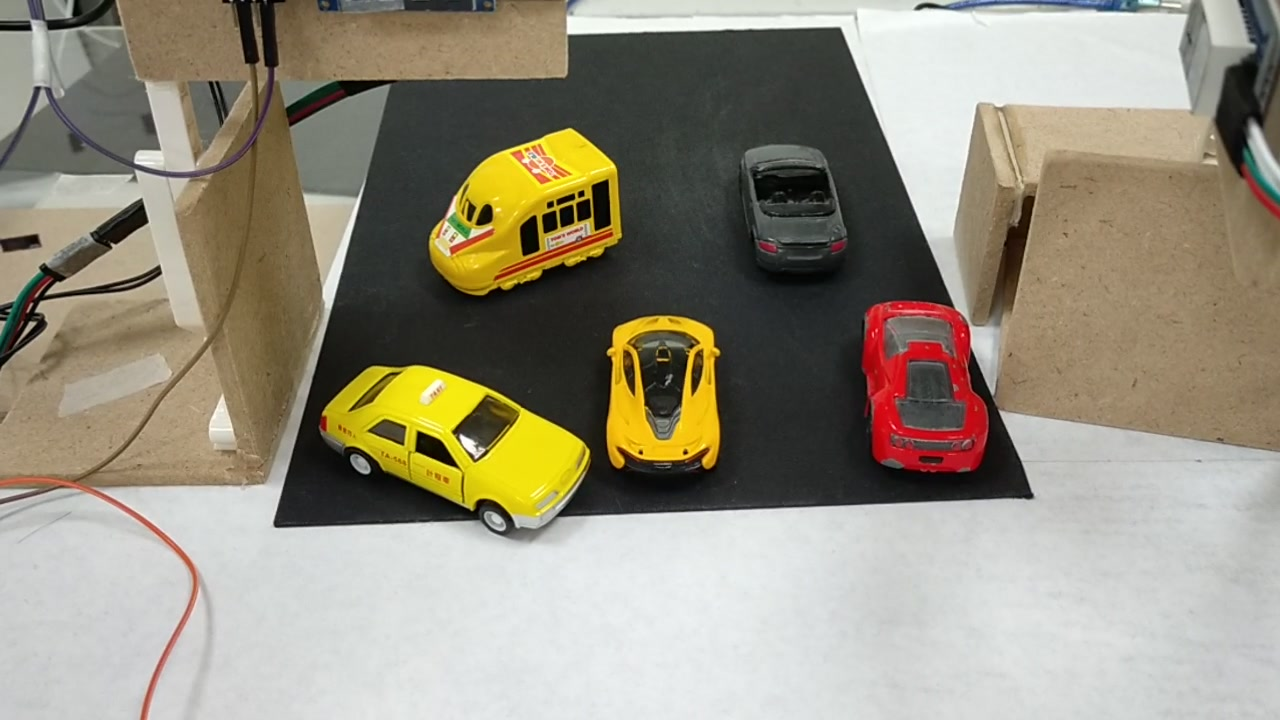car: (312, 370, 591, 537), (864, 298, 985, 479), (607, 312, 722, 481), (736, 144, 848, 276)
